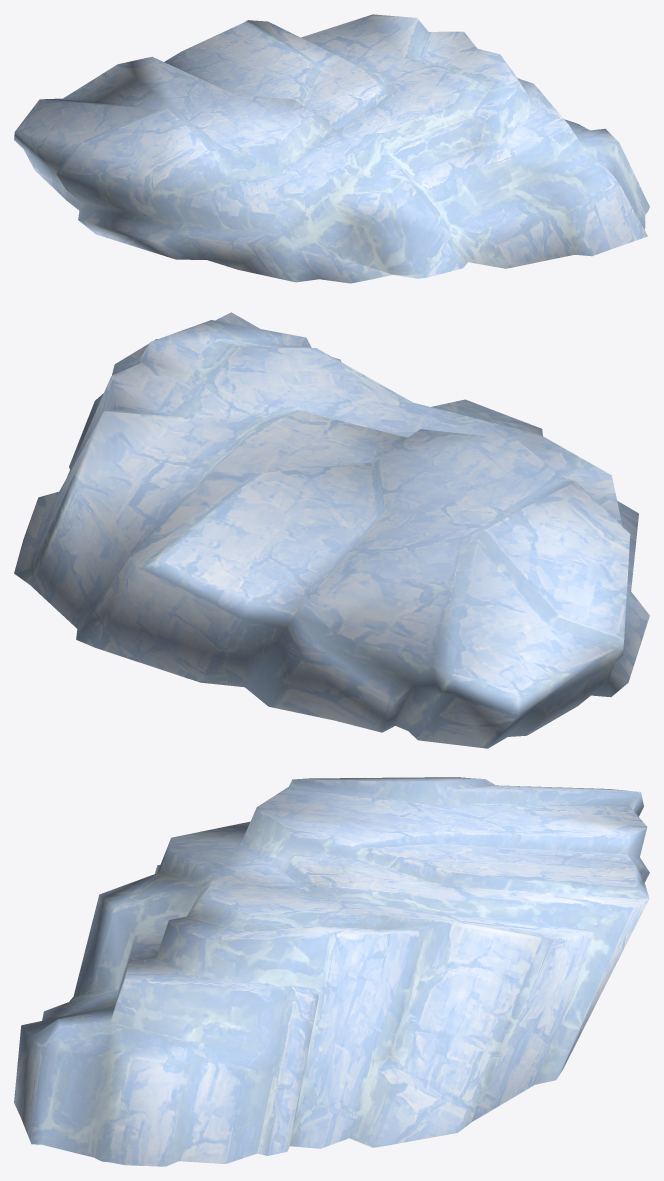
Rendered from hth_env_spire_01c_top.glb.
3 renders of one model, top to bottom at view 1: azimuth 30°, elevation 25°; view 2: azimuth 150°, elevation 25°; view 3: azimuth 270°, elevation 25°, orthographic. The views are drawn at different scales.
Visible parts, largest first — view 1: hth_env_spire_01c_top; view 2: hth_env_spire_01c_top; view 3: hth_env_spire_01c_top.
Boxes of the visible parts, x1,y1,x2,y2 form: hth_env_spire_01c_top: (14,14,649,283); hth_env_spire_01c_top: (14,312,649,748); hth_env_spire_01c_top: (14,777,649,1166).
Size of the model in its own units: 8.84 by 2.25 by 7.56.
2 materials, 2 textured.
